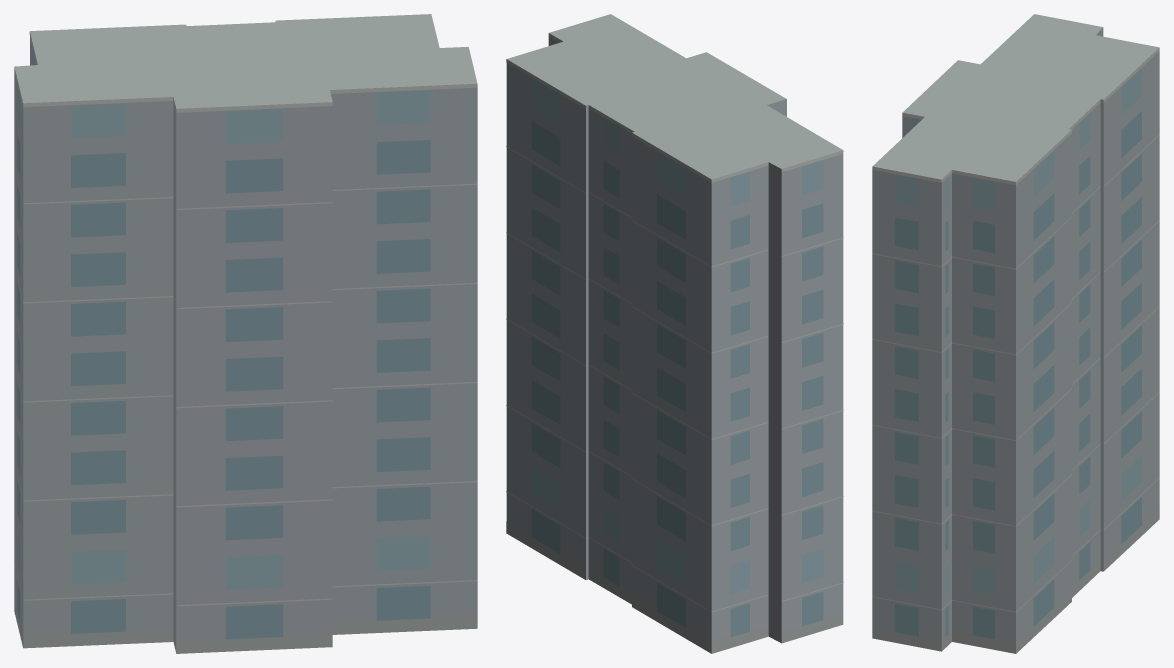
The model's file is survey-upis-32531672.glb.
3 renders of one model, left to right at view 1: azimuth 30°, elevation 25°; view 2: azimuth 150°, elevation 25°; view 3: azimuth 270°, elevation 25°, orthographic. The views are drawn at different scales.
Visible parts, largest first — view 1: survey-upis-32531672.tmp; view 2: survey-upis-32531672.tmp; view 3: survey-upis-32531672.tmp.
Part boxes in pixels (x1=…): survey-upis-32531672.tmp: x1=14, y1=14, x2=477, y2=653; survey-upis-32531672.tmp: x1=506, y1=14, x2=843, y2=653; survey-upis-32531672.tmp: x1=872, y1=14, x2=1159, y2=653.
Size of the model in its own units: 25.68 by 33.6 by 18.56.
